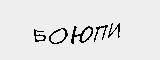Б: (32, 27, 46, 48)
И: (108, 21, 125, 40)
О: (47, 25, 67, 46)
П: (92, 23, 107, 46)
Ю: (69, 24, 93, 46)
